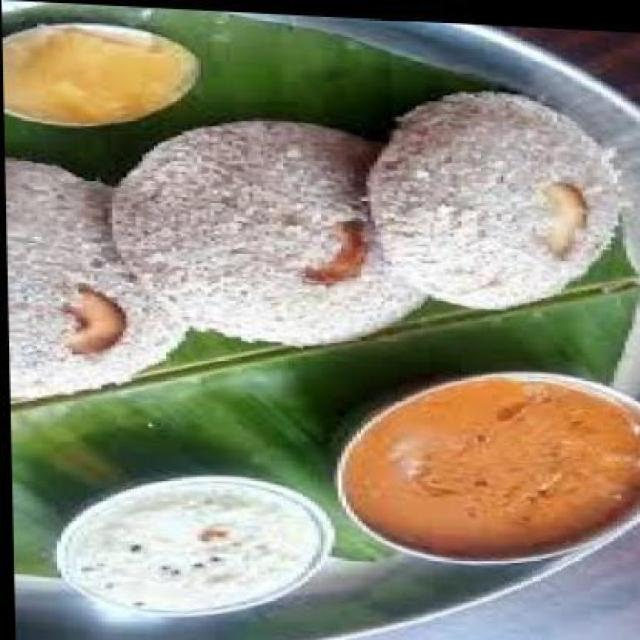idli: (109, 111, 426, 349), (366, 82, 622, 309), (3, 158, 188, 410)
